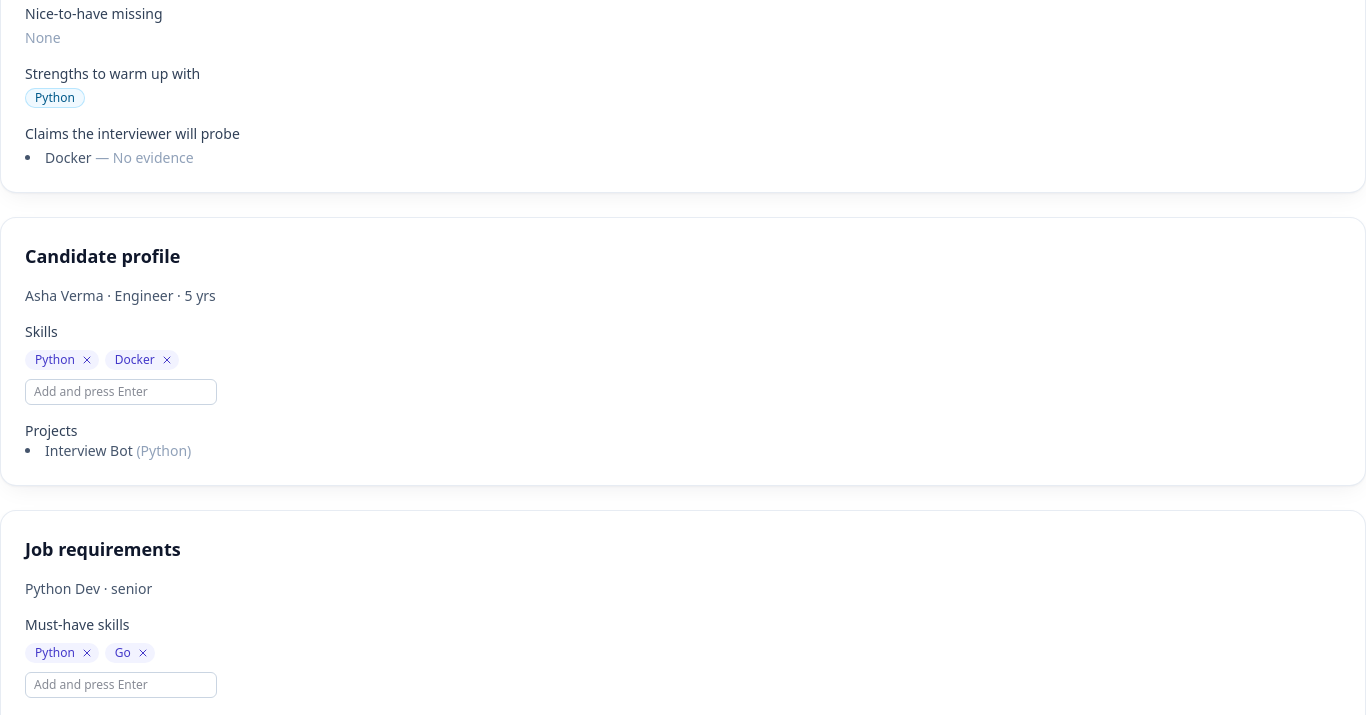
Test case: Analysis page › saves an edited skill list via PATCH and shows the refreshed gap
(page scrolled)
Click the button named "Remove Docker".
click(167, 360)  # box [159,352,175,368]
(page scrolled)
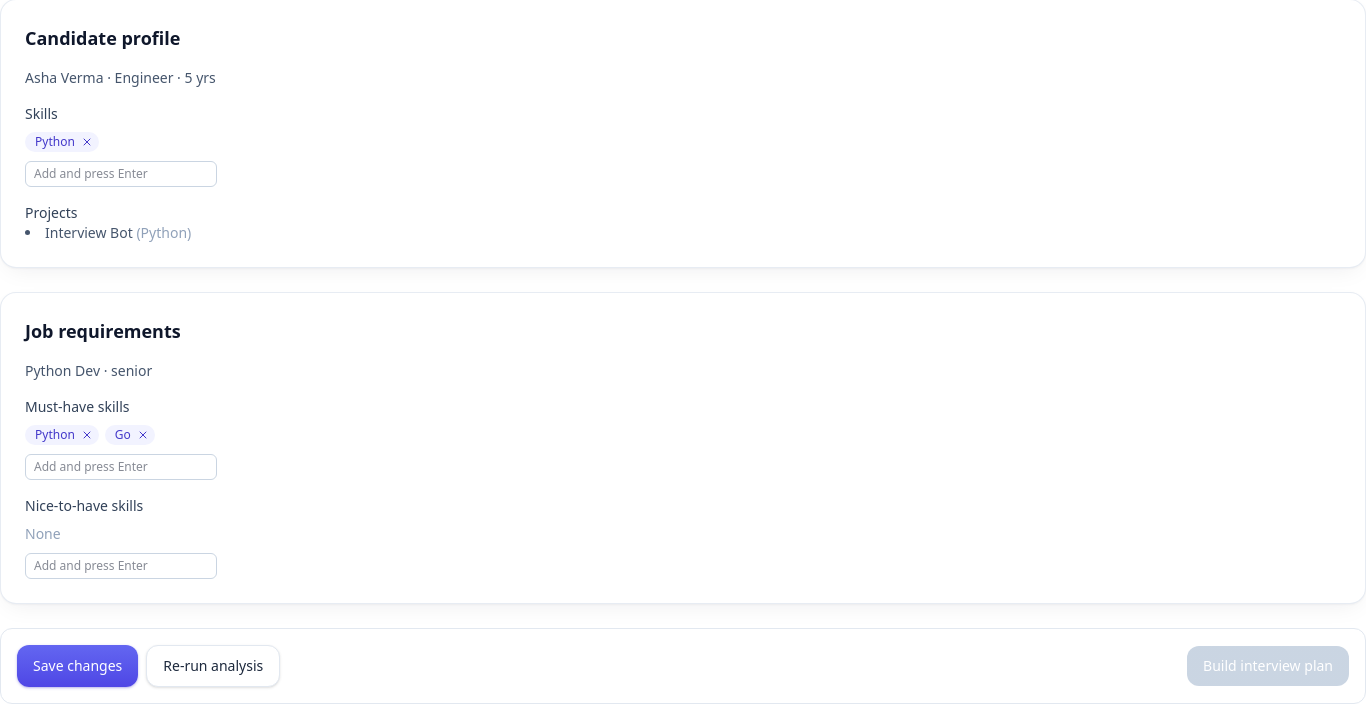
Now the button "Save changes" is enabled
Click the button "Save changes".
click(78, 666)  # box [17,645,138,687]
(page scrolled)
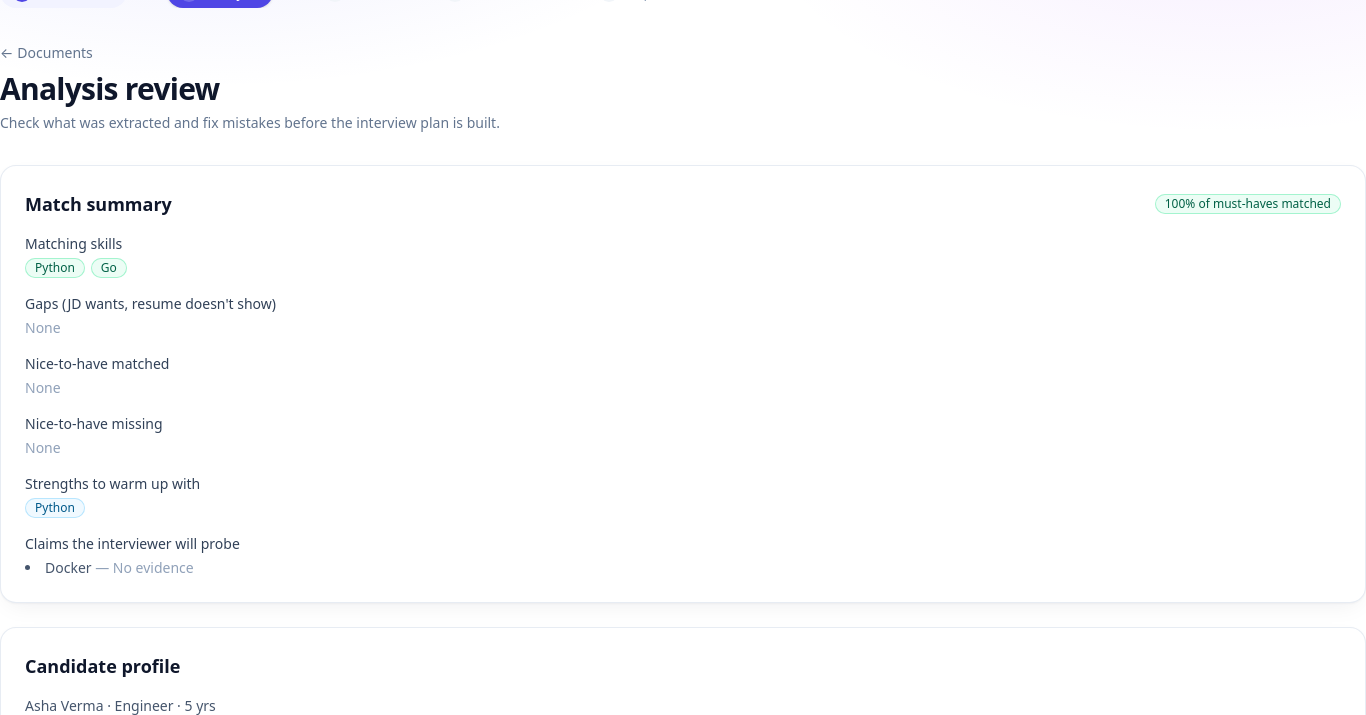
Now the text "100% of must-haves matched" is shown, box [1155,194,1341,214]
